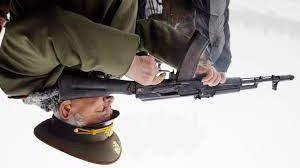larga: (59, 29, 295, 103)
